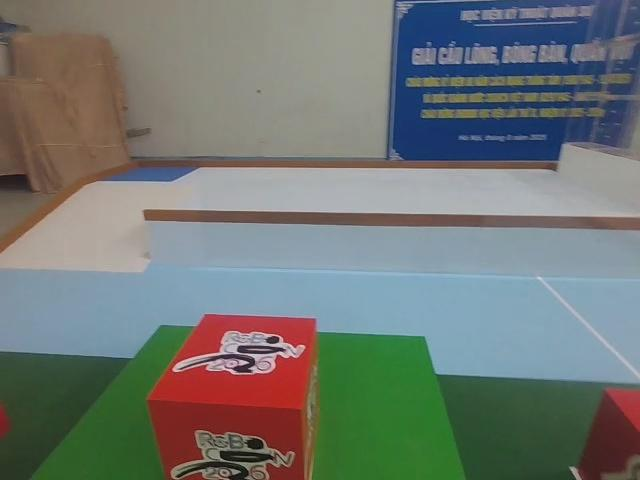R1: (142, 310, 325, 480)
